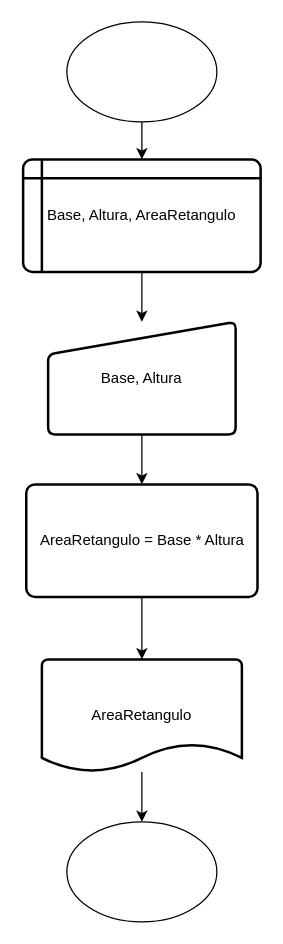
Image size: 283x944. Some labels were removed from this diagram. Each missing label, with the centre of its shape:
End: the point at 141,871
Start: the point at 141,71
